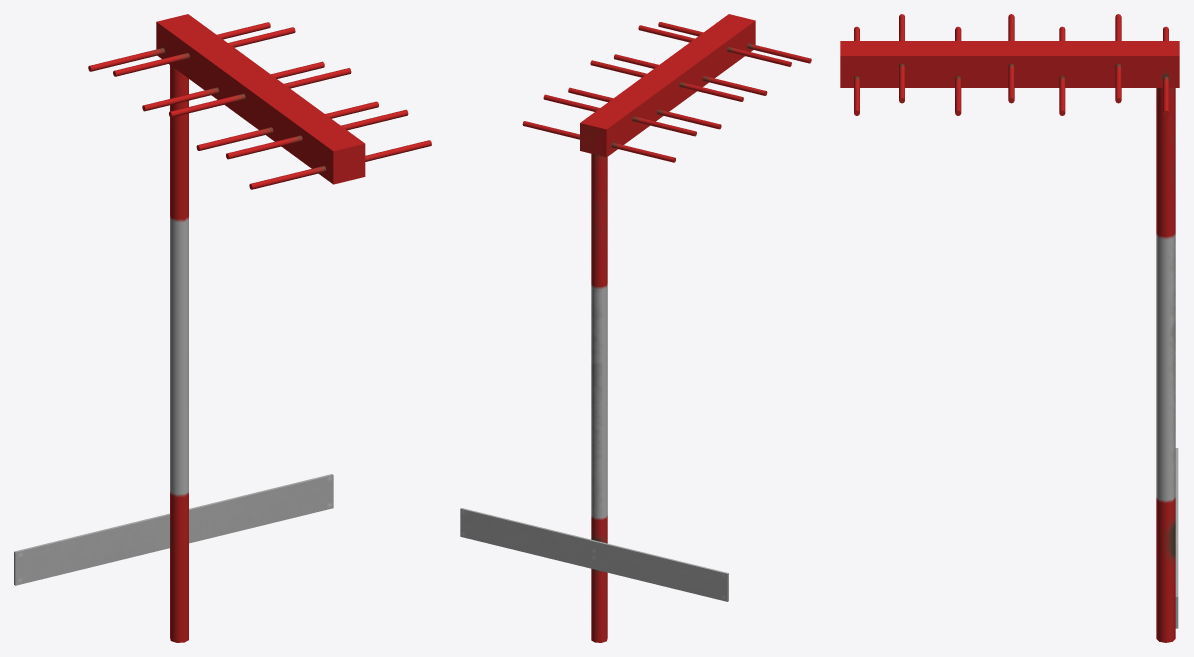
File: SM_Airport_Localizer.fbx
The picture shows the model from 3 angles, left to right: view 1: azimuth 30°, elevation 25°; view 2: azimuth 150°, elevation 25°; view 3: azimuth 270°, elevation 25°; orthographic projection. The views are drawn at different scales.
Visible parts, largest first — view 1: SM_Airport_Localizer; view 2: SM_Airport_Localizer; view 3: SM_Airport_Localizer.
Boxes of the visible parts, <box> form: SM_Airport_Localizer: <box>14,14,431,642</box>; SM_Airport_Localizer: <box>460,14,811,642</box>; SM_Airport_Localizer: <box>840,14,1179,642</box>.
Size of the model in its own units: 2 by 3.7 by 1.93.
